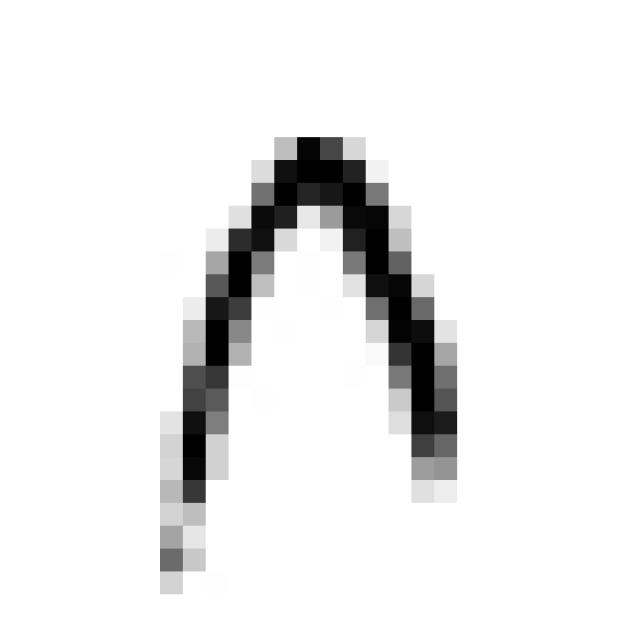8 -eight-: (146, 112, 483, 592)
